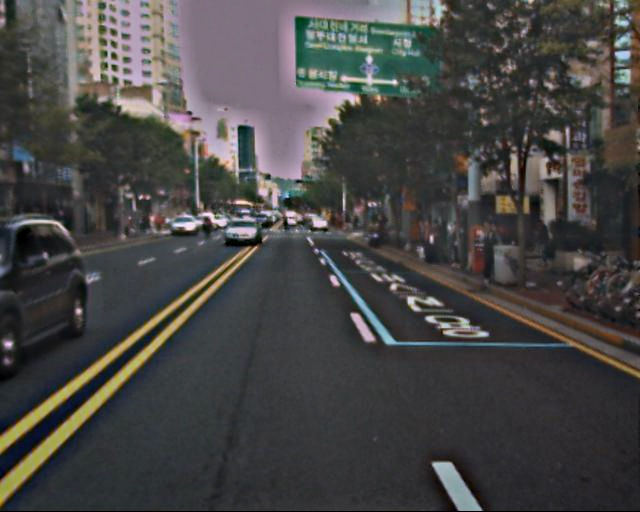person: (478, 226, 500, 280), (532, 217, 552, 266), (445, 221, 464, 268), (426, 219, 445, 266), (415, 219, 433, 262)
